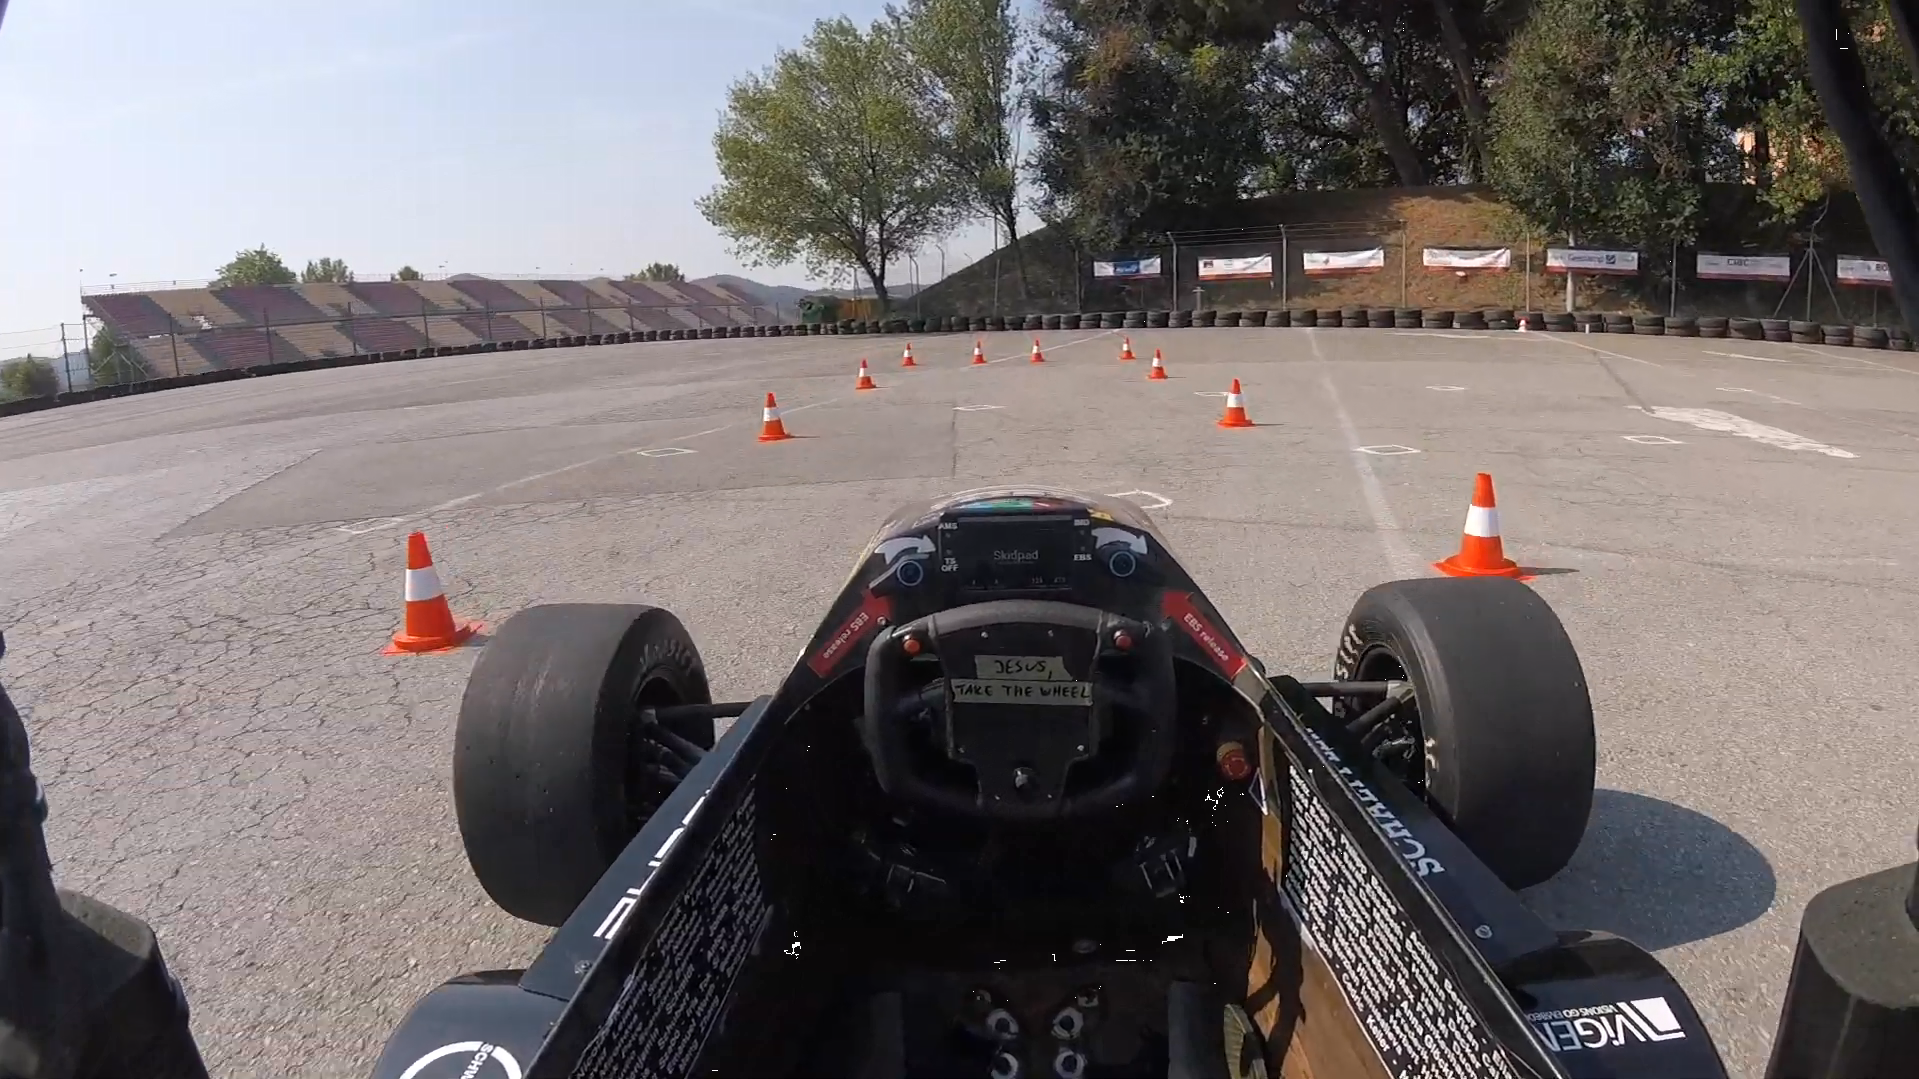cone-orange: (381, 531, 484, 653), (1433, 472, 1535, 584), (1217, 378, 1255, 428), (758, 393, 793, 441), (855, 358, 876, 390), (1148, 348, 1169, 379), (902, 343, 919, 368), (1029, 339, 1045, 364), (1119, 337, 1136, 360), (971, 340, 987, 364)
